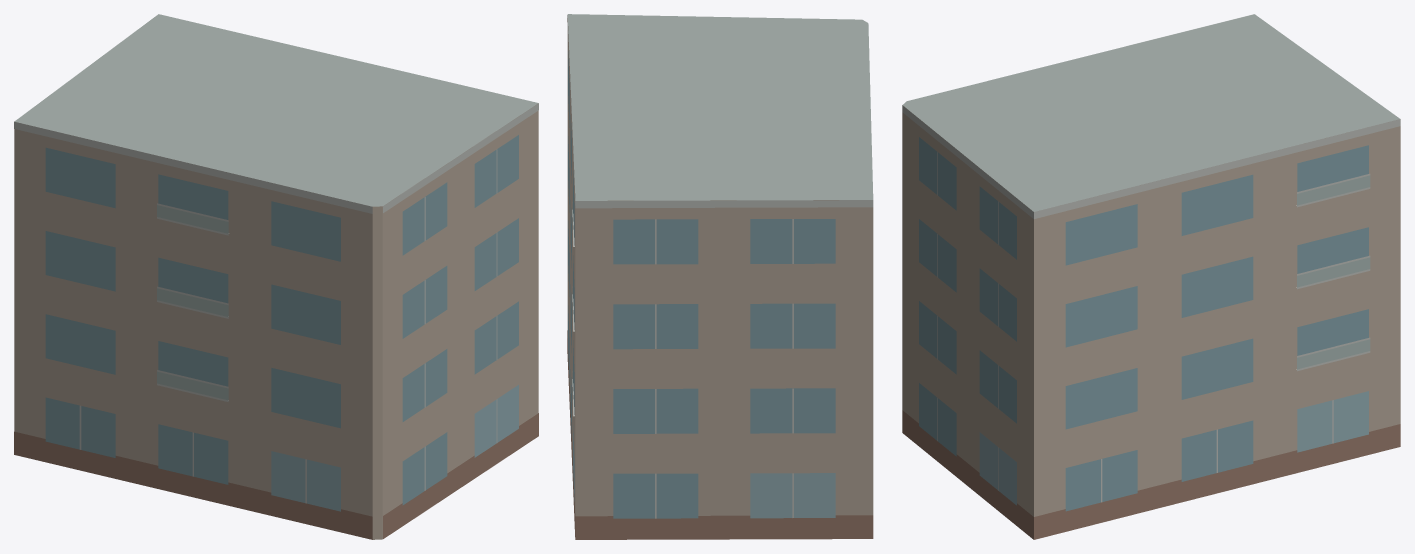
The model's file is survey-upis-32681056.glb.
3 views of the same model, side by side, from view 1: azimuth 30°, elevation 25°; view 2: azimuth 150°, elevation 25°; view 3: azimuth 270°, elevation 25° (orthographic). The views are drawn at different scales.
Visible parts, largest first — view 1: survey-upis-32681056.tmp; view 2: survey-upis-32681056.tmp; view 3: survey-upis-32681056.tmp.
Part boxes in pixels (x1,y1,x2,y2): survey-upis-32681056.tmp: [14, 14, 538, 539]; survey-upis-32681056.tmp: [567, 14, 873, 539]; survey-upis-32681056.tmp: [902, 14, 1400, 539].
Bounding box in the file's own units: 14.52 × 11.2 × 15.43.
